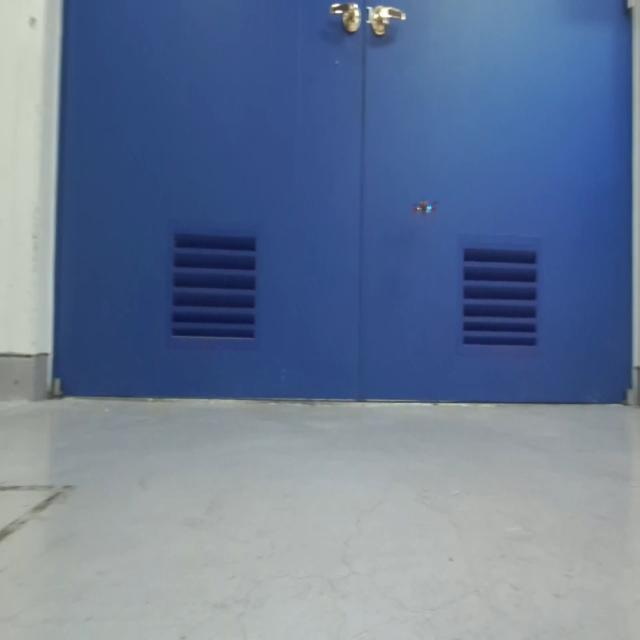crazyflie: (411, 193, 439, 221)
